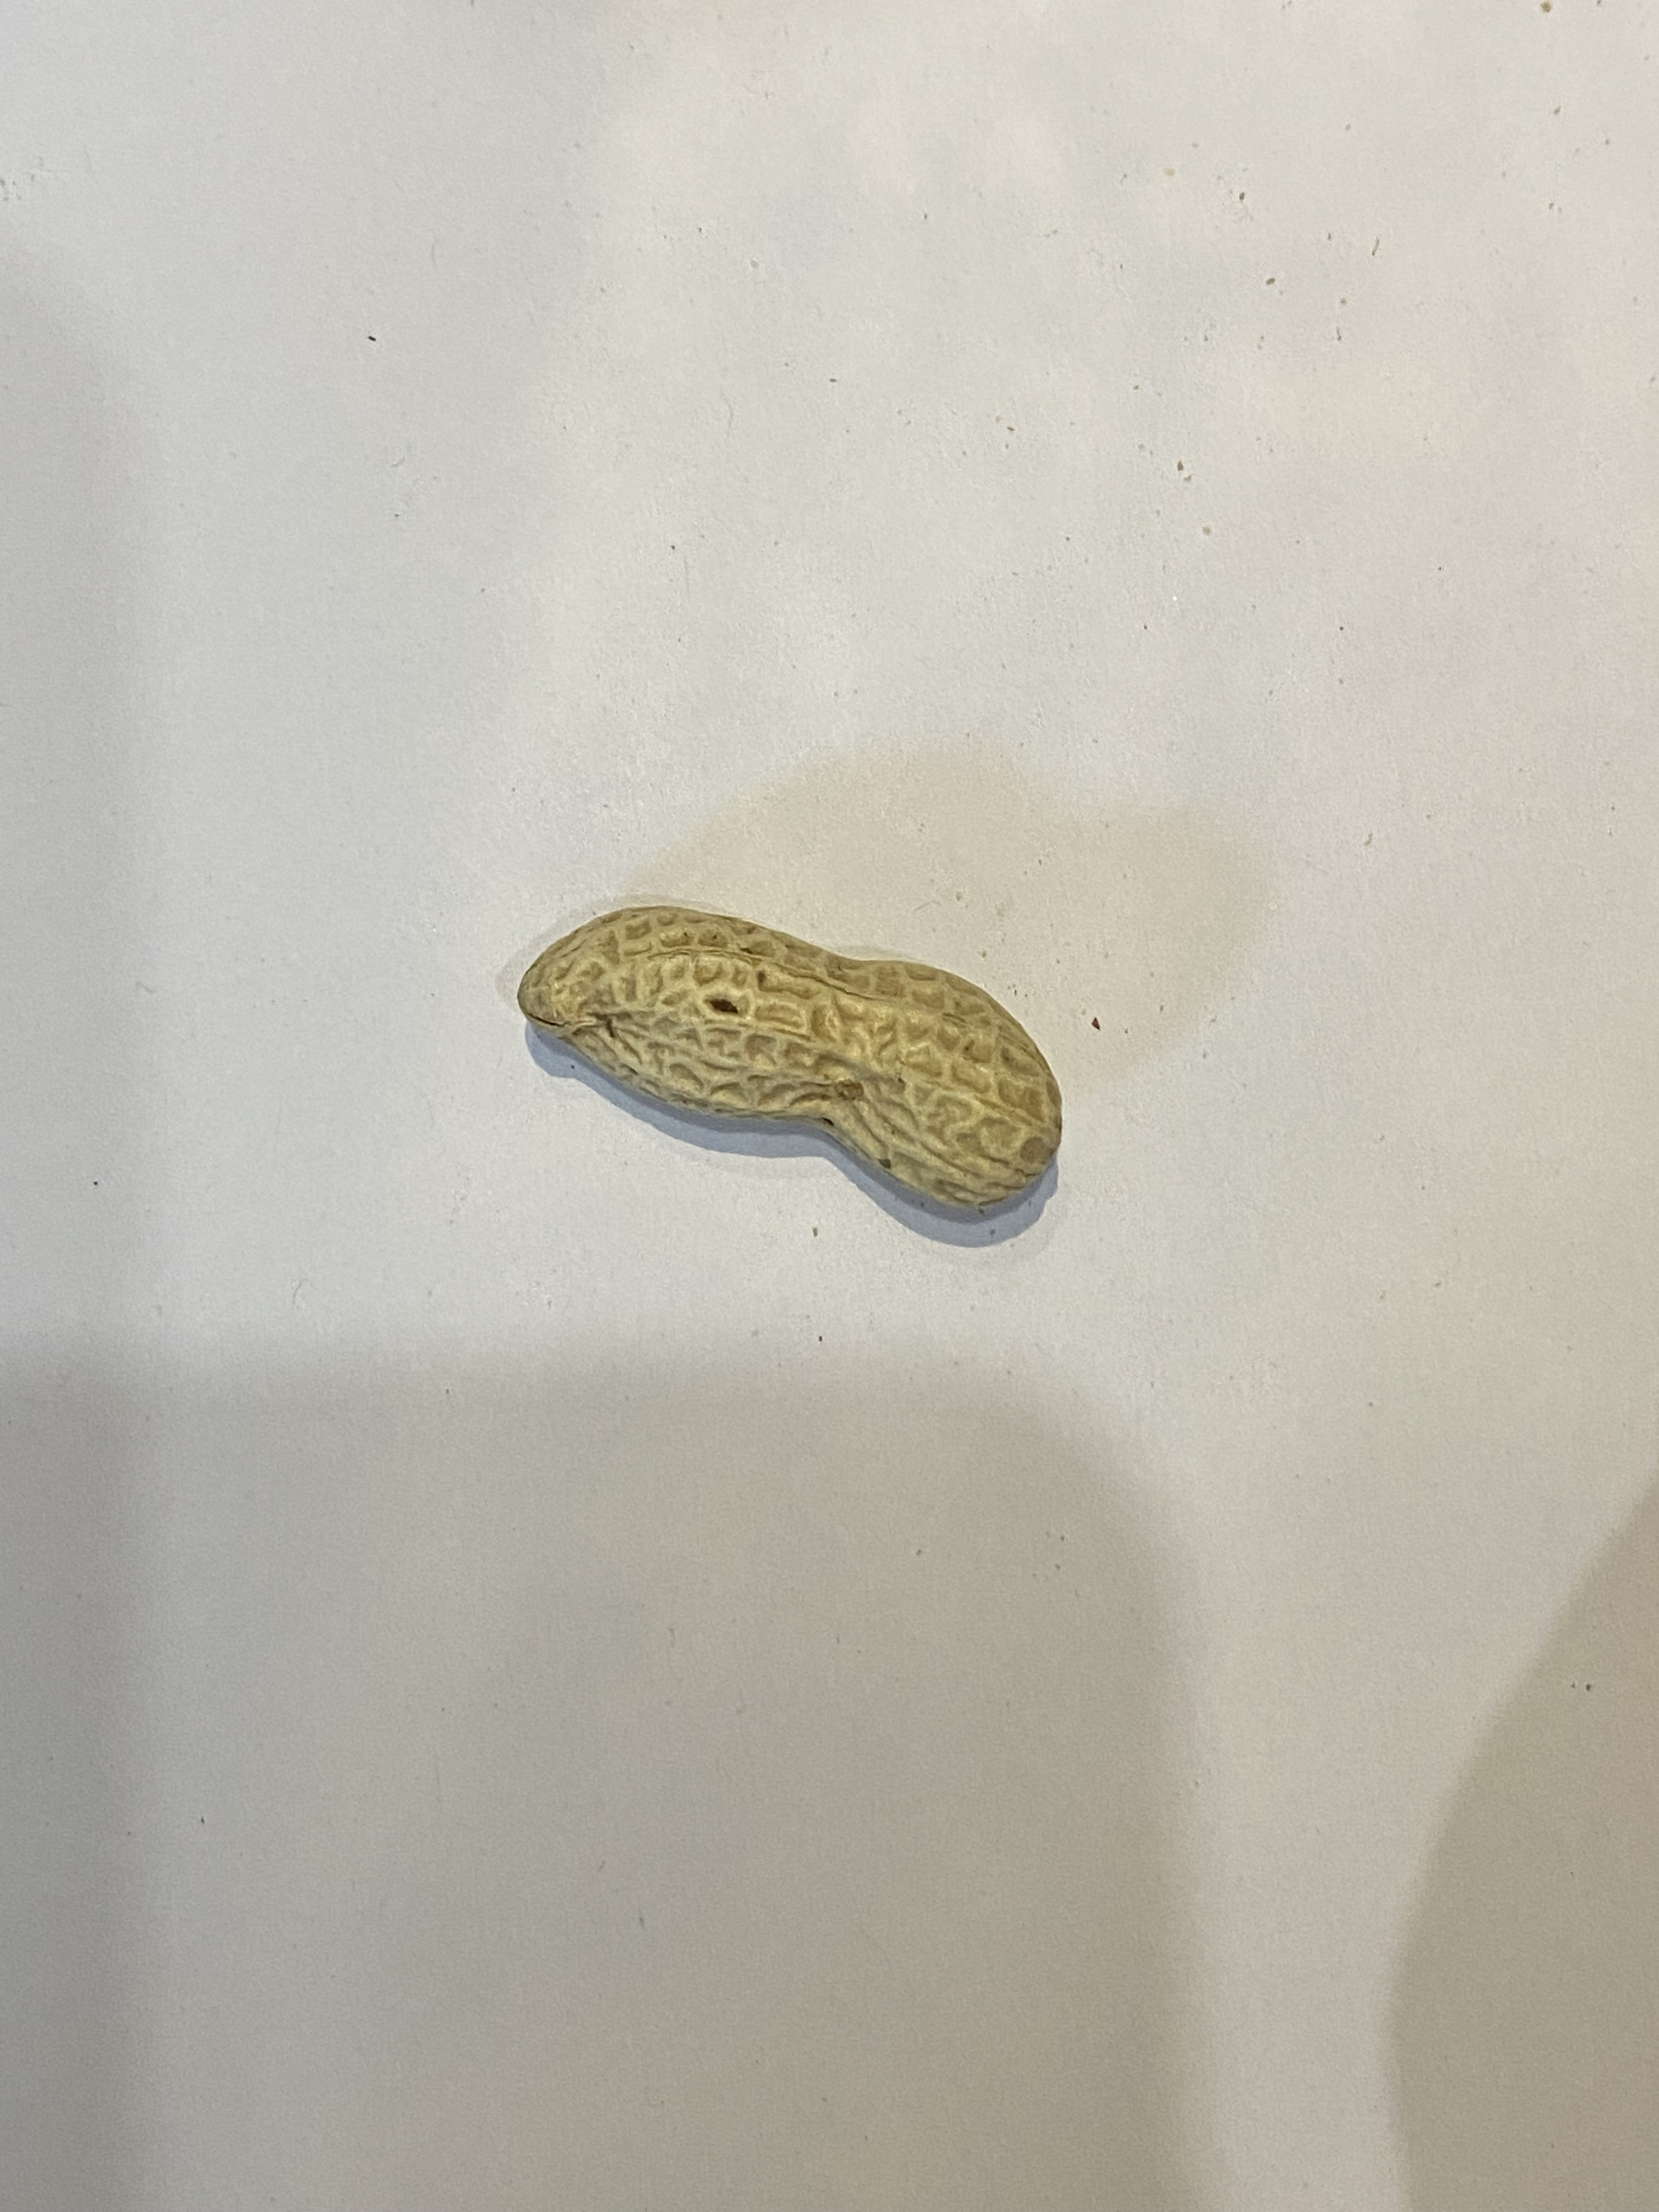kacang2: (502, 890, 1080, 1219)
